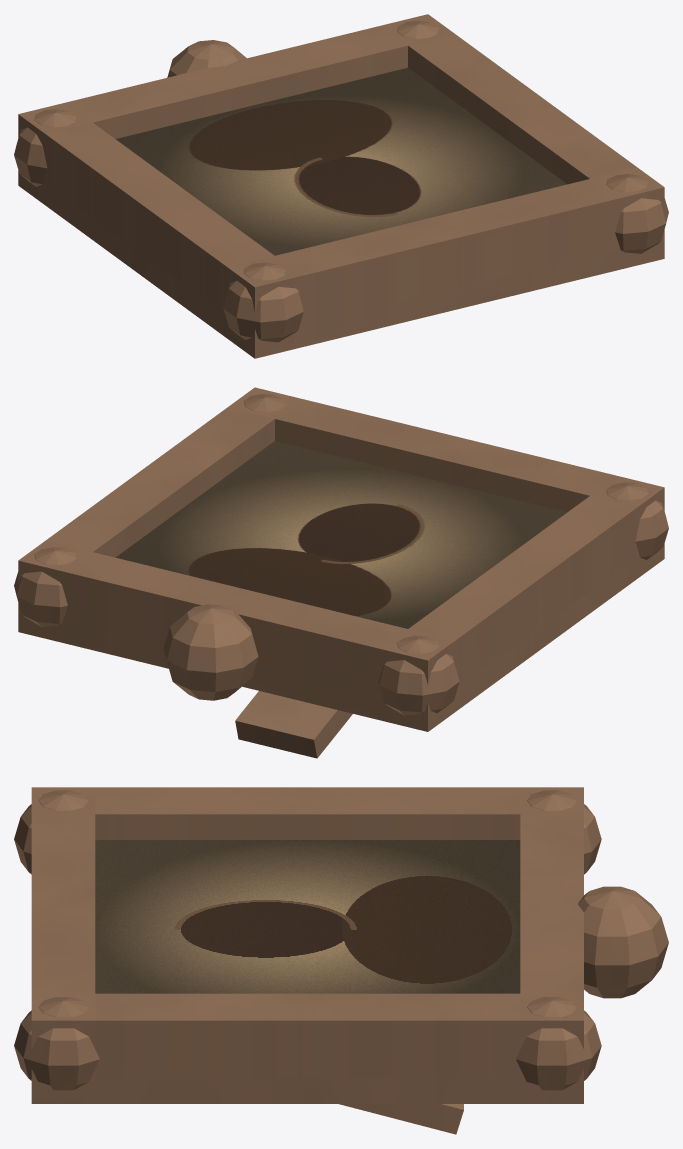
Rendered from frame_b.glb.
The picture shows the model from 3 angles, top to bottom: view 1: azimuth 30°, elevation 25°; view 2: azimuth 150°, elevation 25°; view 3: azimuth 270°, elevation 25°; orthographic projection. The views are drawn at different scales.
Parts seen in each view (by area): view 1: FrameBody, Photo; view 2: FrameBody, Photo; view 3: FrameBody, Photo.
Part boxes in pixels (x1,y1,x2,y2): FrameBody: (14,14,668,358); Photo: (115,67,567,255); FrameBody: (14,387,668,758); Photo: (116,441,566,628); FrameBody: (14,787,668,1134); Photo: (95,840,520,993).
Bounding box in the file's own units: 0.1646 × 0.0689 × 0.185.
2 materials, 2 textured.
